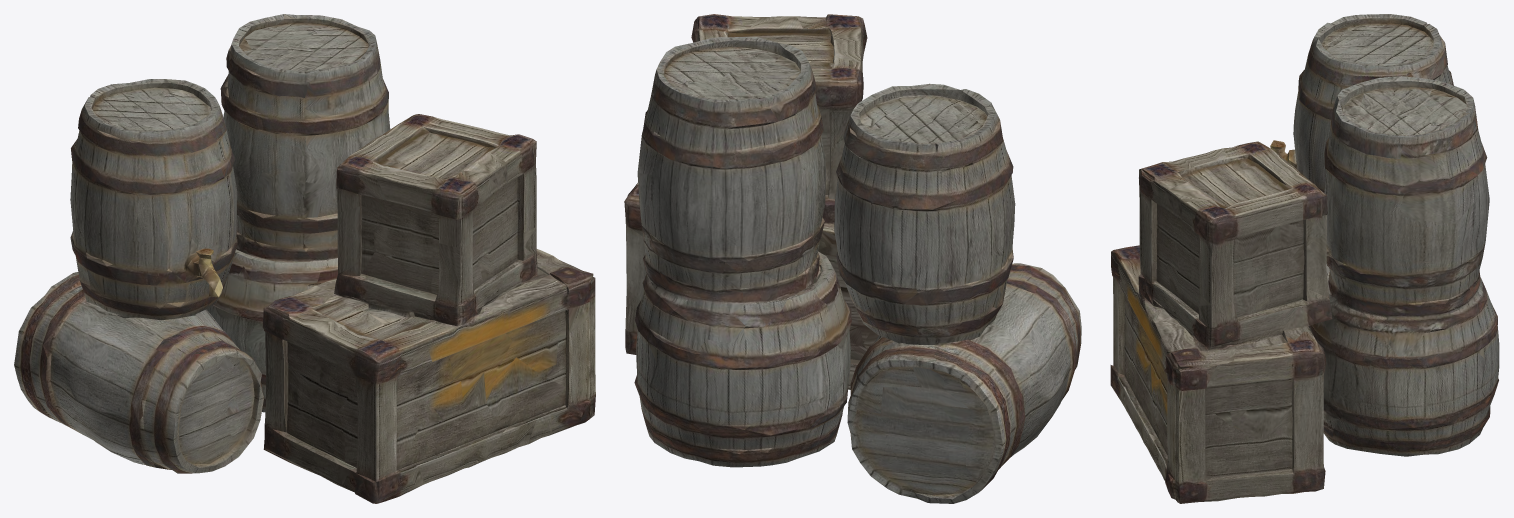
The model's file is barrels.glb.
3 renders of one model, left to right at view 1: azimuth 30°, elevation 25°; view 2: azimuth 150°, elevation 25°; view 3: azimuth 270°, elevation 25°, orthographic. The views are drawn at different scales.
Parts seen in each view (by area): view 1: mesh_node; view 2: mesh_node; view 3: mesh_node.
Part boxes in pixels (x1,y1,x2,y2): mesh_node: [14, 14, 595, 503]; mesh_node: [624, 14, 1081, 503]; mesh_node: [1110, 14, 1499, 503].
Size of the model in its own units: 1.9 by 1.37 by 1.49.
Materials: 1 (1 with a texture image).
